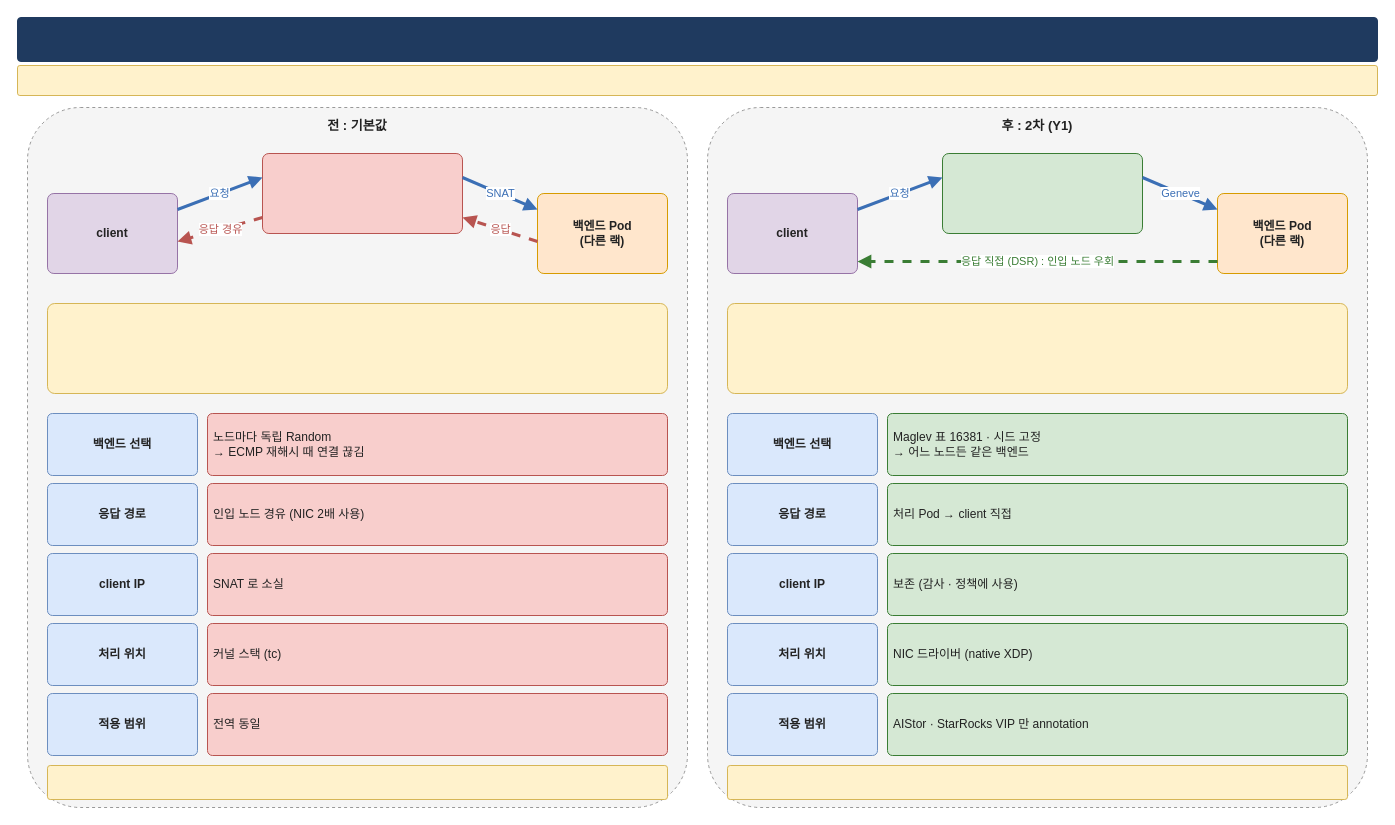
Image size: 1395x825. Some labels were removed from this diagram. The centre of each missing label's shape, as x and y in pixels:
"결론 : 인입 노드가 바뀌어도 같은 백엔드, 응답은 인입 노드 우회, VIP 처리는 드라이버 단계에서 종료" belongs at [697,80].
"그림 4. L4 LB : SNAT + Random → Maglev + DSR(Geneve) + XDP" belongs at [697,39].
"요청 · 응답 모두 인입 노드 경유 인입 노드 NIC 이 대용량 응답까지 부담 → 병목" belongs at [357,348].
"요청만 인입 노드 경유. GET 응답(대용량)은 처리 Pod 가 직접 송신 인입 노드 NIC = 요청 트래픽만 부담" belongs at [1037,348].
"인입 노드 tc 단계 처리 Random 선택 + SNAT" belongs at [362,193].
"인입 노드 XDP 에서 VIP 변환 Maglev 선택" belongs at [1042,193].
"주의 : 백엔드 증감 시 일부 연결 이동 (48개 기준 제거 약 0.9%, 추가 약 3%)" belongs at [1037,782].
"증상 : 노드 장애 · 경로 변화 때 무관한 연결까지 재설정" belongs at [357,782].
